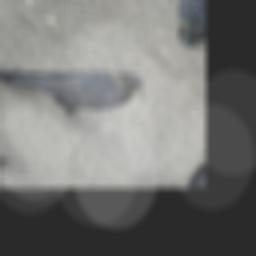Crow: (0, 12, 157, 153)
